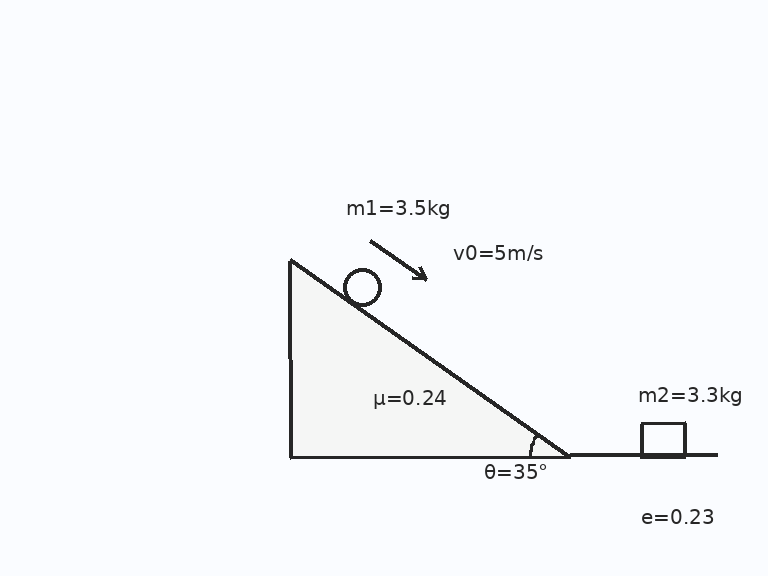ball: (341, 266, 383, 308)
block: (639, 422, 687, 458)
ramp: (288, 258, 572, 458)
